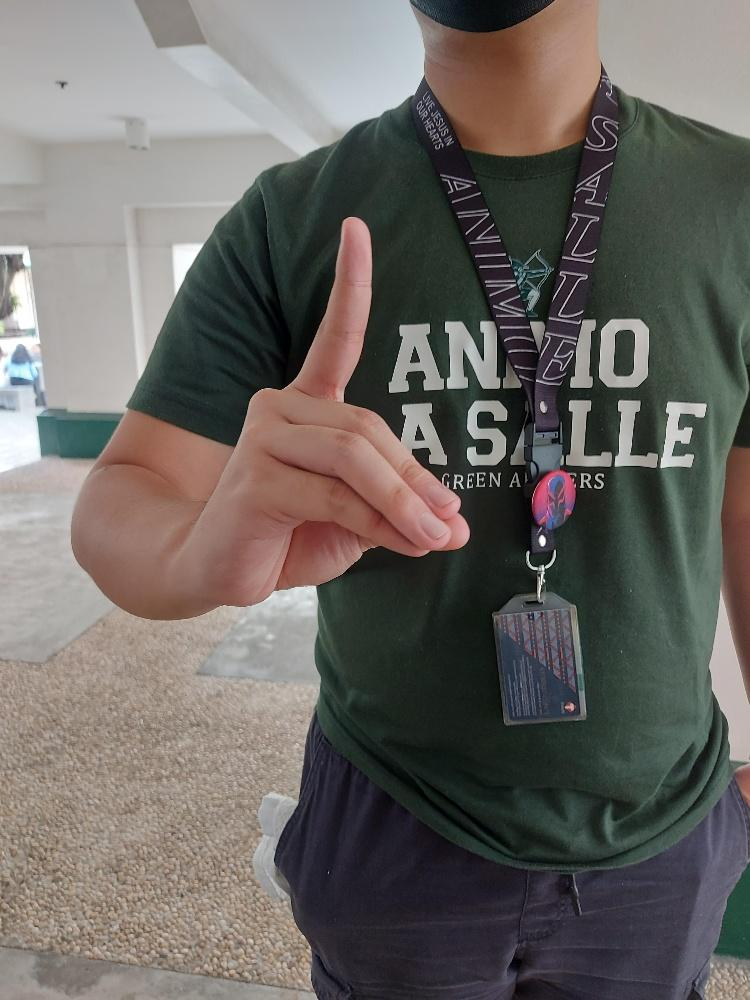d: (187, 211, 474, 609)
